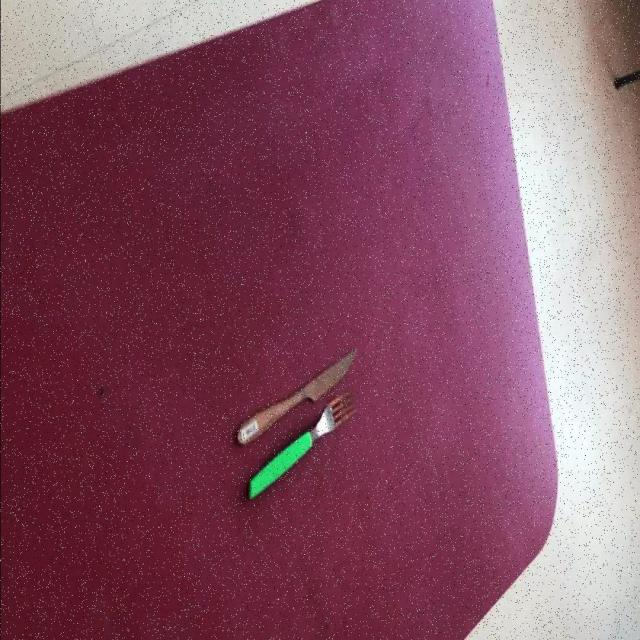Fork: (247, 392, 357, 502)
Knife: (237, 348, 359, 447)
